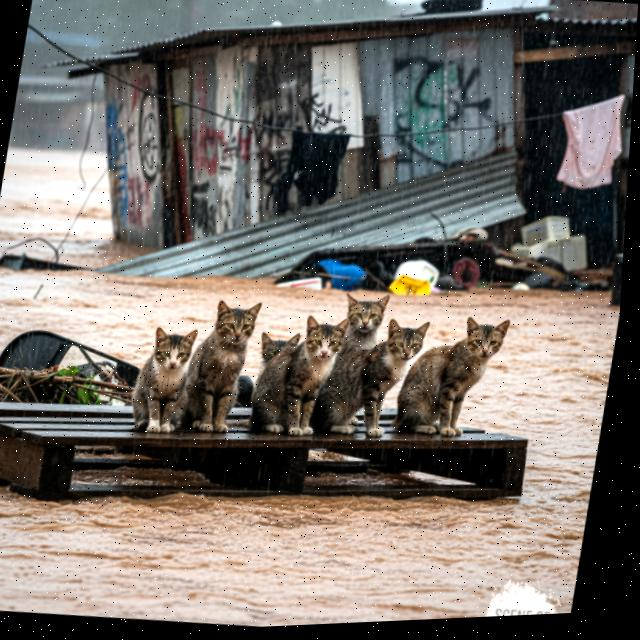cat: (390, 305, 518, 447), (316, 310, 431, 446), (173, 293, 265, 441), (247, 314, 347, 440), (119, 315, 203, 440), (325, 284, 392, 360), (251, 320, 309, 379)
